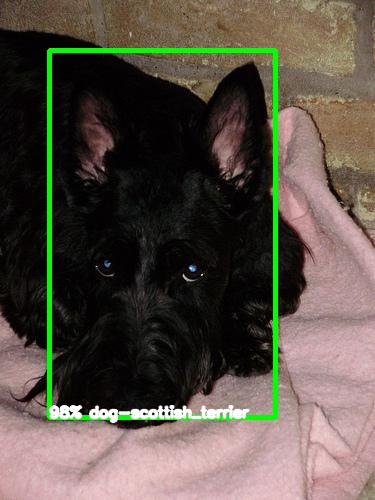dog-scottish_terrier: (68, 61, 268, 429)
